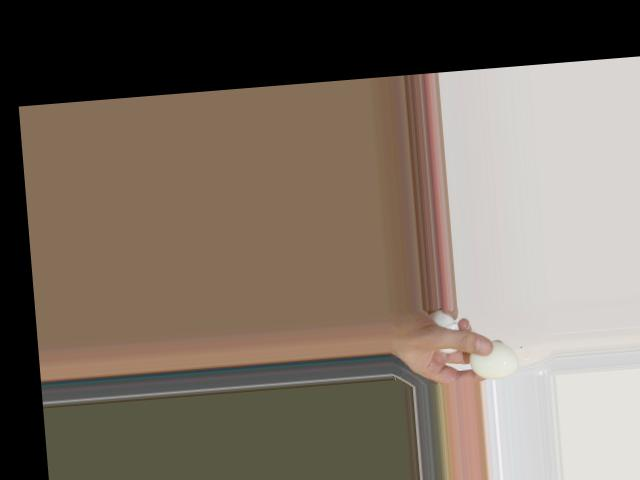egg: (468, 338, 519, 381)
